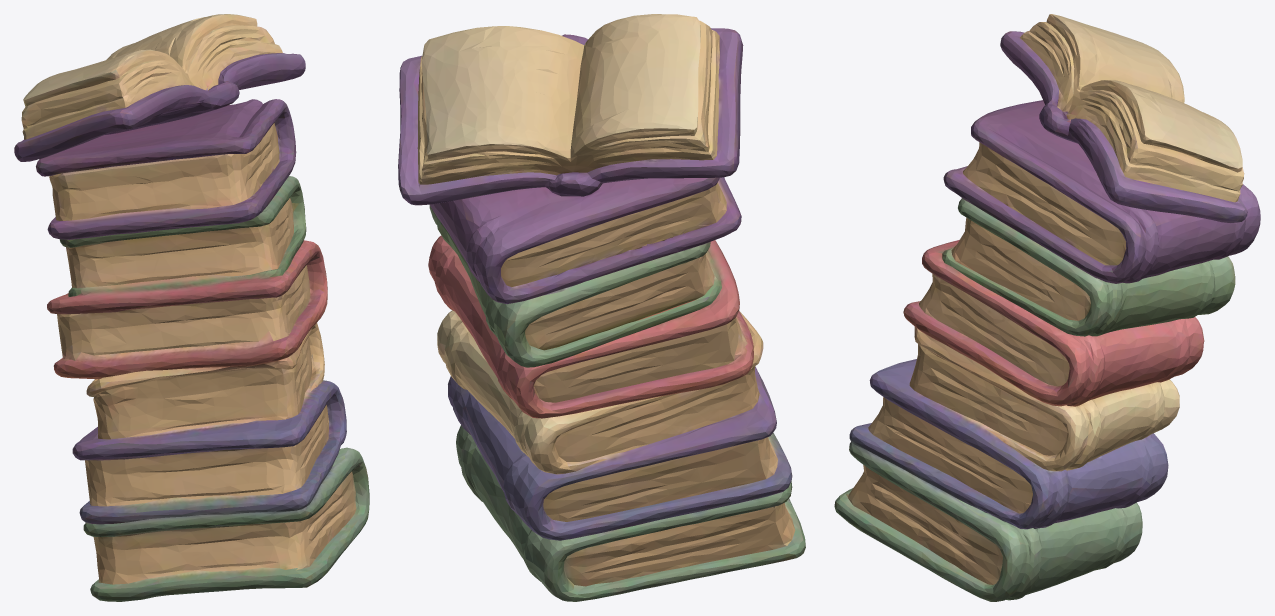
File: item_booktower.glb
The picture shows the model from 3 angles, left to right: view 1: azimuth 30°, elevation 25°; view 2: azimuth 150°, elevation 25°; view 3: azimuth 270°, elevation 25°; orthographic projection. The views are drawn at different scales.
Visible parts, largest first — view 1: geometry_0; view 2: geometry_0; view 3: geometry_0.
Boxes of the visible parts, left/top/right/bottom form: geometry_0: left=14, top=14, right=369, bottom=601; geometry_0: left=398, top=14, right=805, bottom=601; geometry_0: left=834, top=14, right=1260, bottom=601.
Bounding box in the file's own units: 0.5368 × 0.8831 × 0.6677.
1 material, 1 textured.
